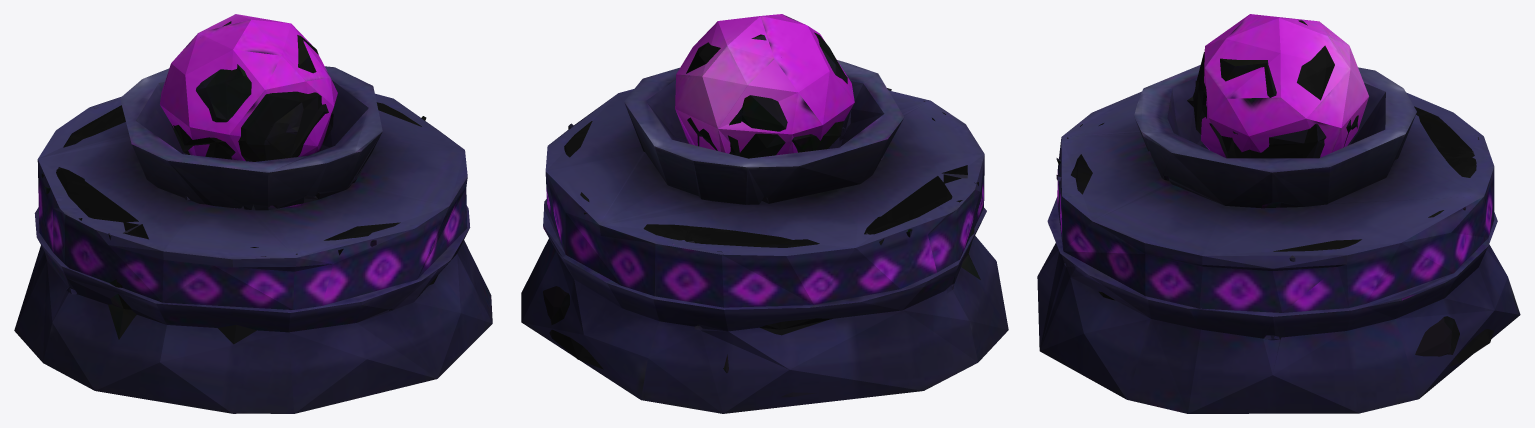
File: abimes_autel.glb
The picture shows the model from 3 angles, left to right: view 1: azimuth 30°, elevation 25°; view 2: azimuth 150°, elevation 25°; view 3: azimuth 270°, elevation 25°; orthographic projection. The views are drawn at different scales.
Parts seen in each view (by area): view 1: geometry_0; view 2: geometry_0; view 3: geometry_0.
Part boxes in pixels (box(x1,y1,x2,y2)): geometry_0: box(14, 14, 492, 413); geometry_0: box(521, 14, 1008, 413); geometry_0: box(1037, 14, 1520, 413).
Size of the model in its own units: 0.9795 by 0.6651 by 0.9759.
Materials: 1 (1 with a texture image).
